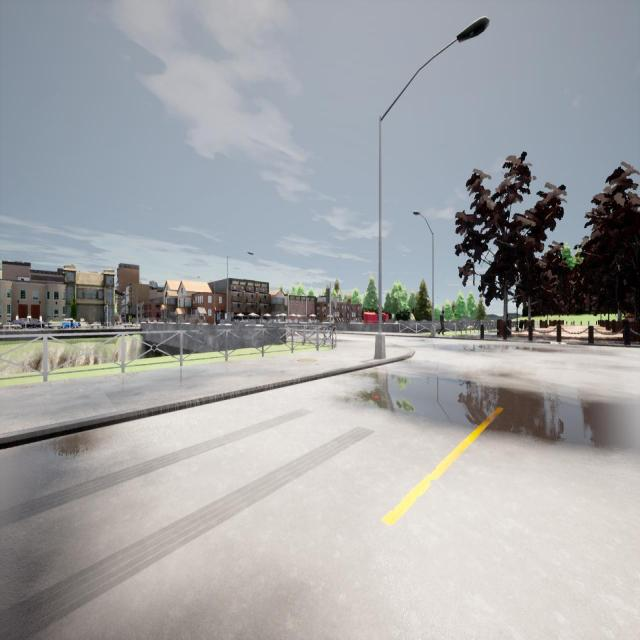Pedestrian: (438, 310, 446, 336)
Vehicle: (11, 318, 45, 329), (60, 319, 78, 329)
traffic_light: (326, 288, 330, 304), (104, 306, 107, 313), (214, 306, 216, 314)
